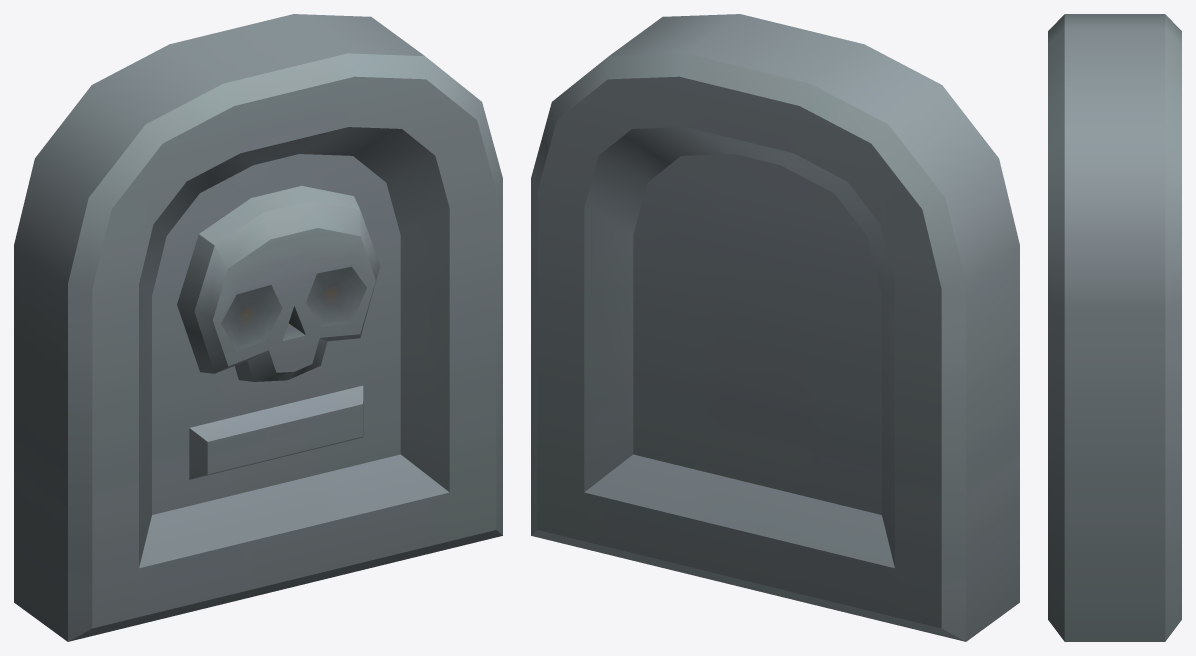
Rendered from h_gravestone.glb.
The picture shows the model from 3 angles, left to right: view 1: azimuth 30°, elevation 25°; view 2: azimuth 150°, elevation 25°; view 3: azimuth 270°, elevation 25°; orthographic projection. The views are drawn at different scales.
Parts seen in each view (by area): view 1: gravestone; view 2: gravestone; view 3: gravestone.
Boxes of the visible parts, bbox=[...] form: gravestone: bbox=[14, 14, 502, 641]; gravestone: bbox=[531, 14, 1019, 641]; gravestone: bbox=[1048, 14, 1181, 641].
Size of the model in its own units: 1.4 by 1.6 by 0.4001.
1 material, 1 textured.
